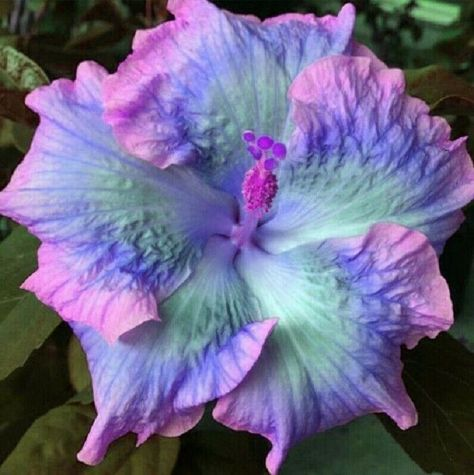Hibiscus: (6, 12, 462, 458)
